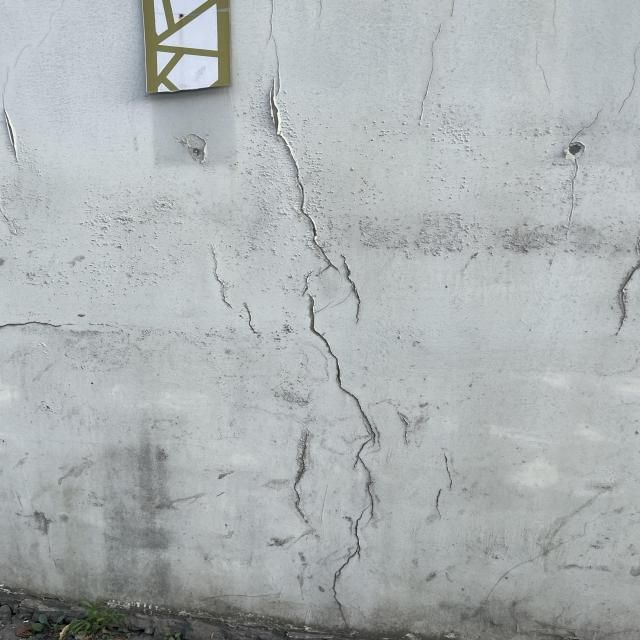crack: (258, 5, 378, 426), (332, 426, 380, 625), (286, 432, 320, 548), (616, 241, 640, 336)
spalling: (557, 130, 600, 238), (168, 126, 220, 173)
